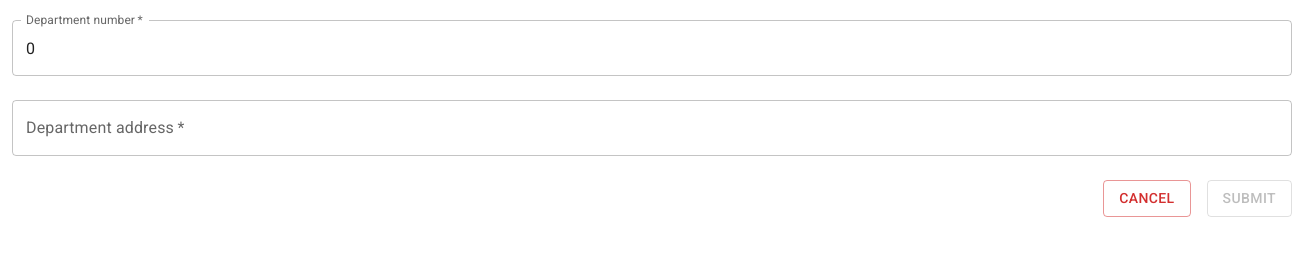
it: CreateDepartmentForm › unique constraint validation error is displayed
Expected: the button with test id "submit-btn" is disabled, [1207,180,1292,216]
Step 1. Replace the text in the field labelled "Department number *" with "1" → [652, 48], box [12,20,1292,76]
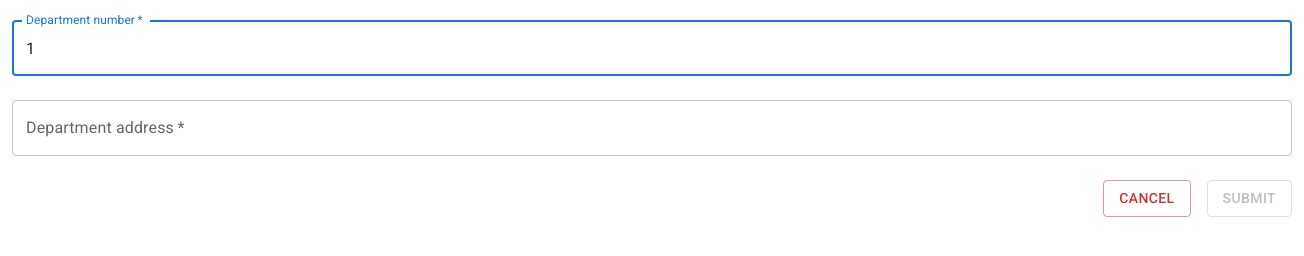
Step 2. Type "address" into the field labelled "Department address *" → [652, 128], box [12,100,1292,156]
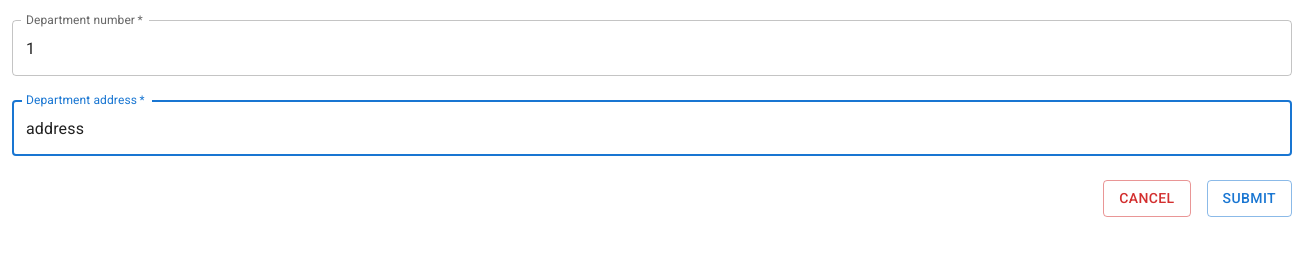
Step 3. Click the button with test id "submit-btn" → [1249, 198], box [1207,180,1292,216]
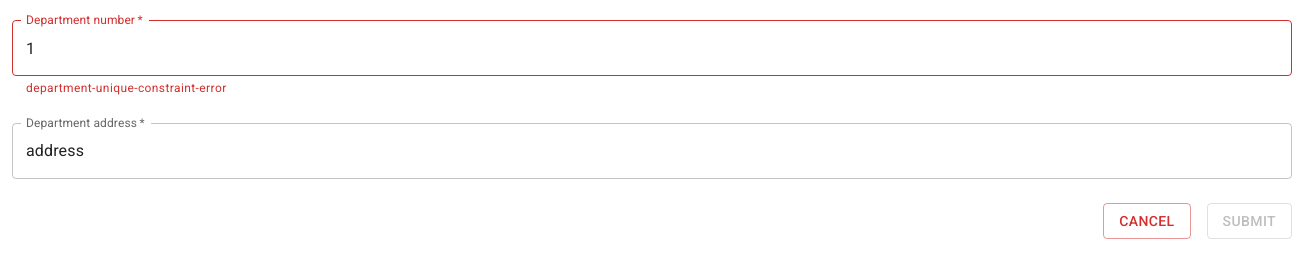
Expected: the text "department-unique-constraint-error" is shown, [26,81,227,95]
Expected: the button with test id "submit-btn" is disabled, [1207,203,1292,239]
